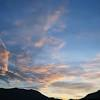sky: (1, 1, 99, 90)
